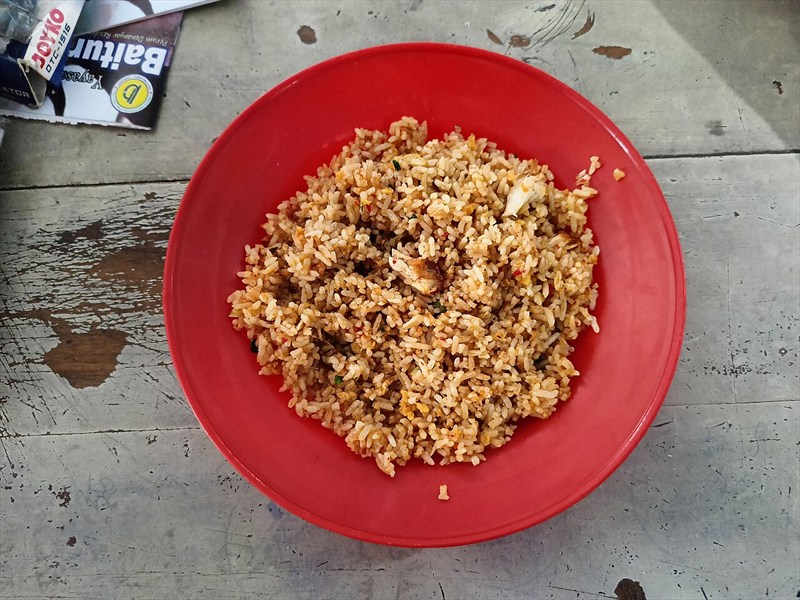Nasi Goreng: (187, 54, 613, 471)
